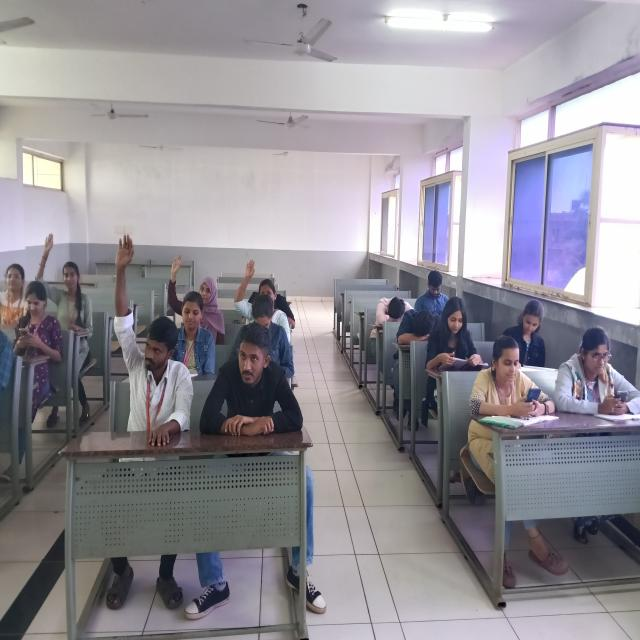Hand Rising: (108, 231, 188, 438), (32, 228, 92, 354)
Reading: (425, 296, 492, 376)
Sleeping: (395, 306, 447, 350), (370, 291, 418, 338)
Using Phone: (463, 328, 562, 439), (549, 322, 640, 424), (166, 250, 227, 339), (13, 280, 61, 382), (413, 267, 453, 315)
